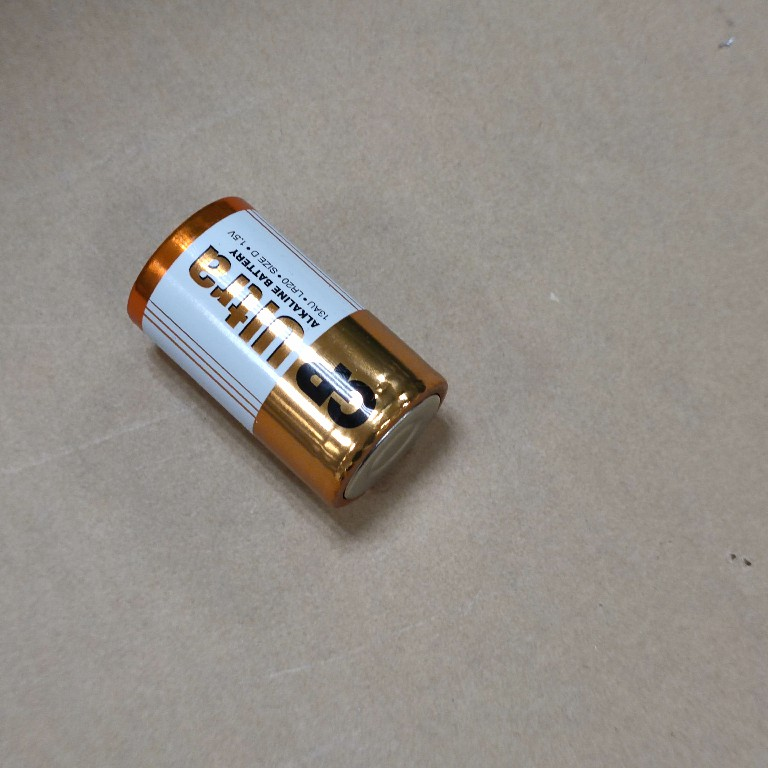charge: (119, 190, 453, 514)
